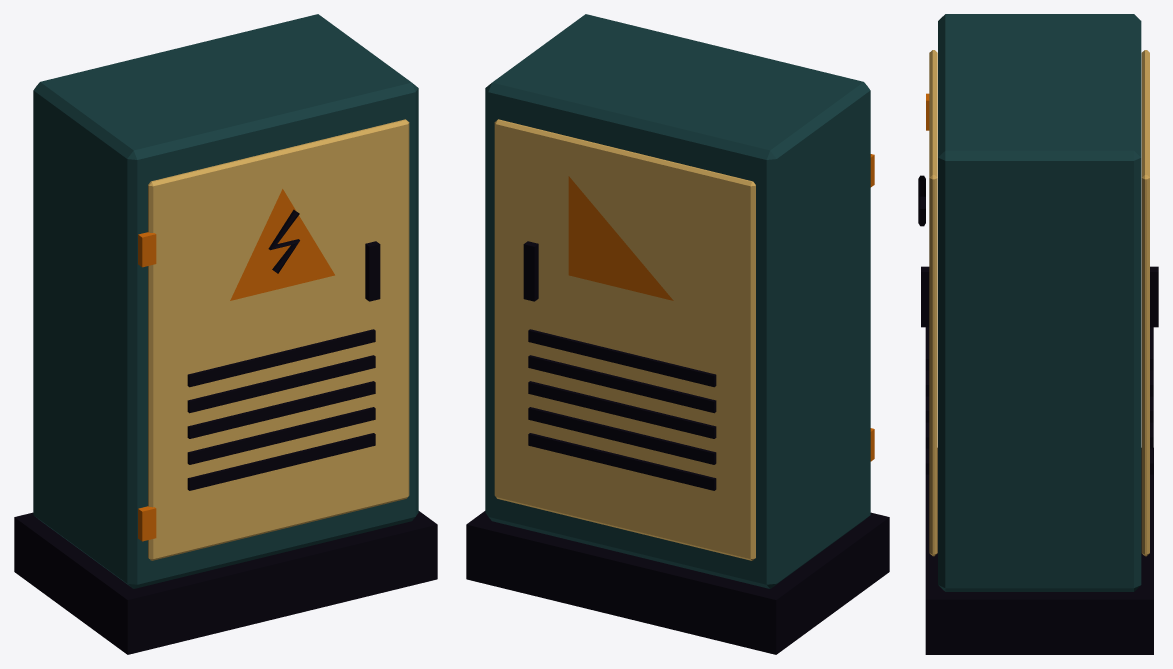
Rendered from junction_cabinet.fbx.
The picture shows the model from 3 angles, left to right: view 1: azimuth 30°, elevation 25°; view 2: azimuth 150°, elevation 25°; view 3: azimuth 270°, elevation 25°; orthographic projection.
Visible parts, largest first — view 1: Part_-1, Part_3, Part_2, Part_0, Part_1; view 2: Part_-1, Part_2, Part_0, Part_3, Part_1; view 3: Part_-1, Part_3, Part_1, Part_0, Part_2.
Boxes of the visible parts, box(x1,y1,x2,y2) form: Part_-1: box(14, 14, 437, 654); Part_3: box(137, 88, 418, 516); Part_2: box(33, 90, 398, 583); Part_0: box(14, 160, 415, 599); Part_1: box(128, 125, 437, 599); Part_-1: box(466, 14, 889, 654); Part_2: box(752, 90, 874, 570); Part_0: box(467, 428, 889, 599); Part_3: box(485, 88, 488, 478); Part_1: box(466, 511, 888, 582); Part_-1: box(918, 14, 1158, 654); Part_3: box(918, 55, 1146, 587); Part_1: box(925, 158, 1152, 599); Part_0: box(929, 423, 1153, 599); Part_2: box(920, 50, 937, 225).
Bounding box in the file's own units: 1.65 × 2.51 × 1.1.
